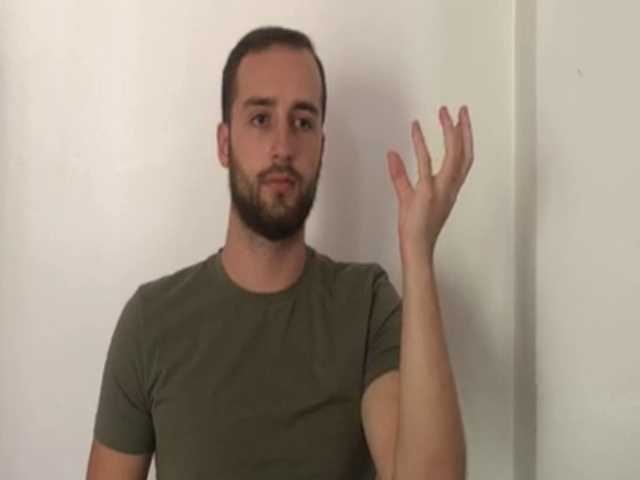Sonce: (376, 100, 480, 286)
